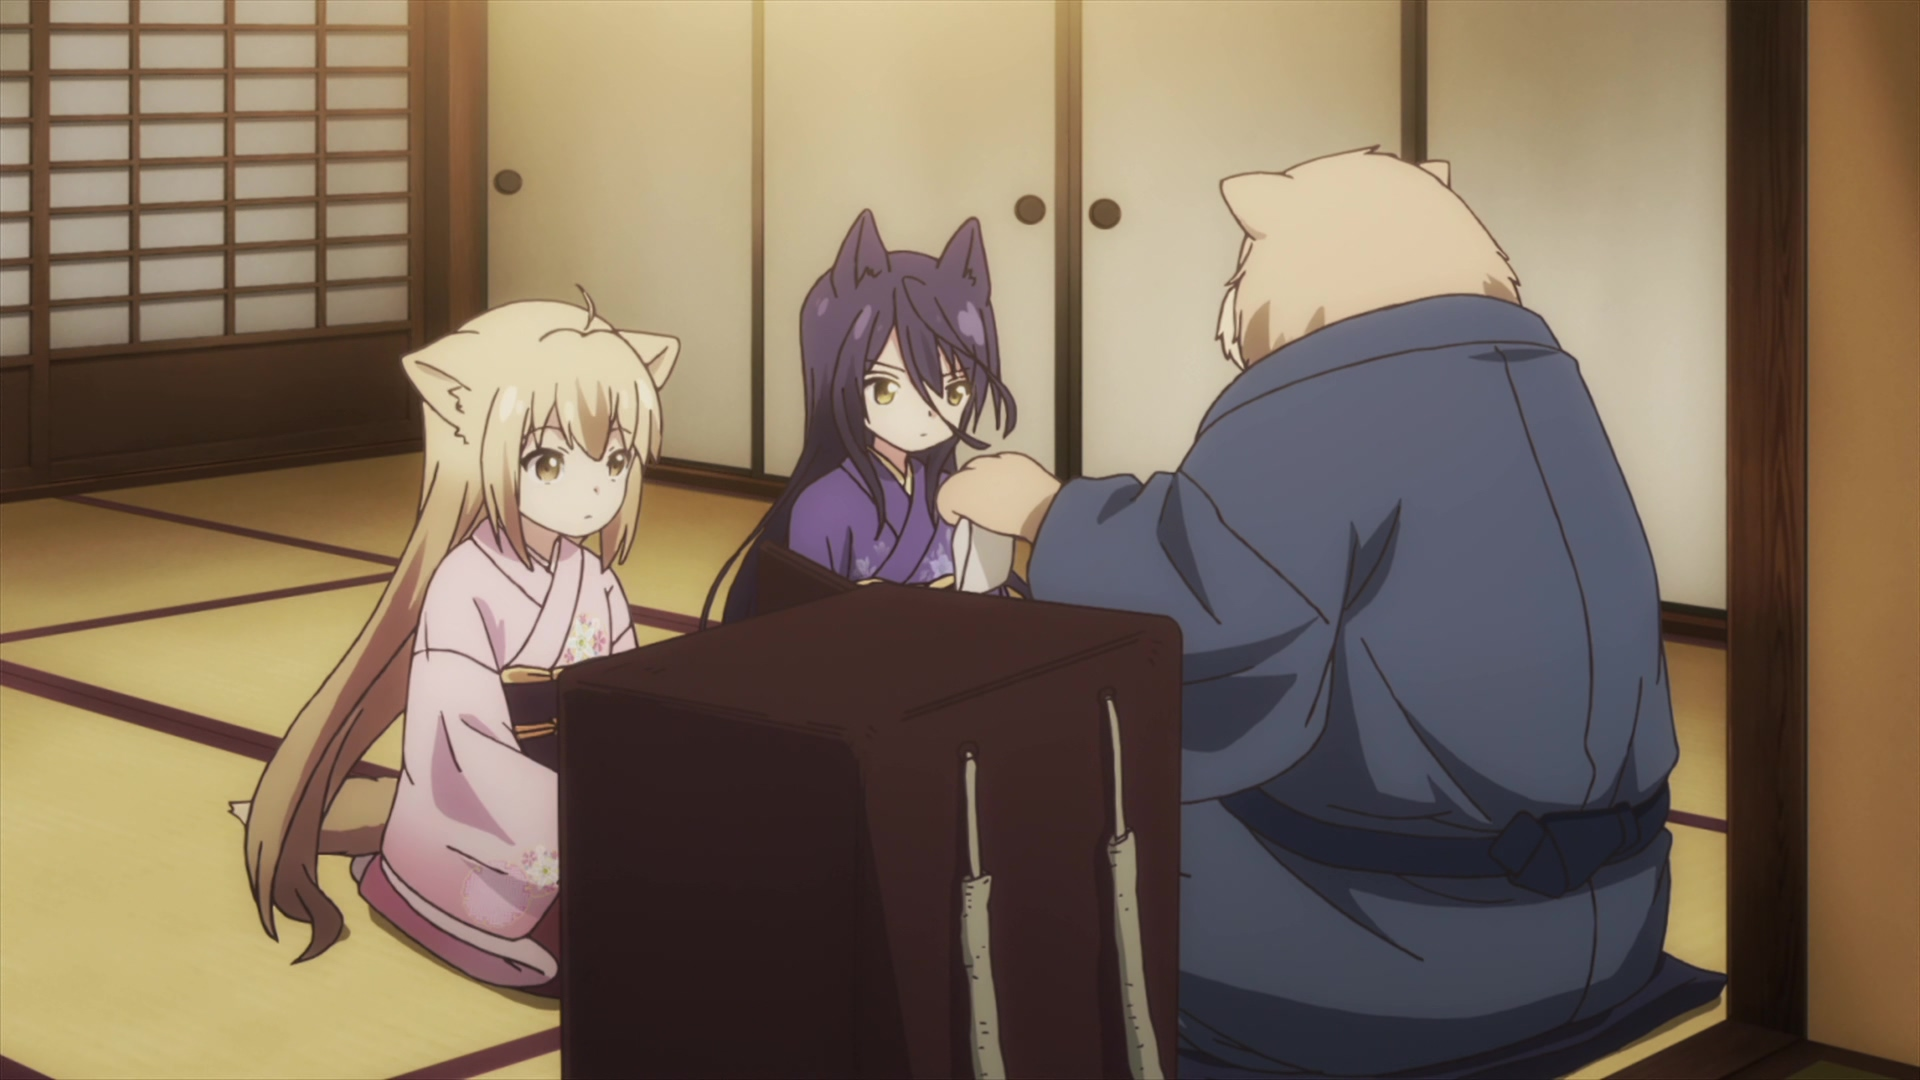柚: (232, 284, 684, 1000)
皋: (700, 208, 1021, 632)
药店老板: (934, 146, 1680, 1080)
